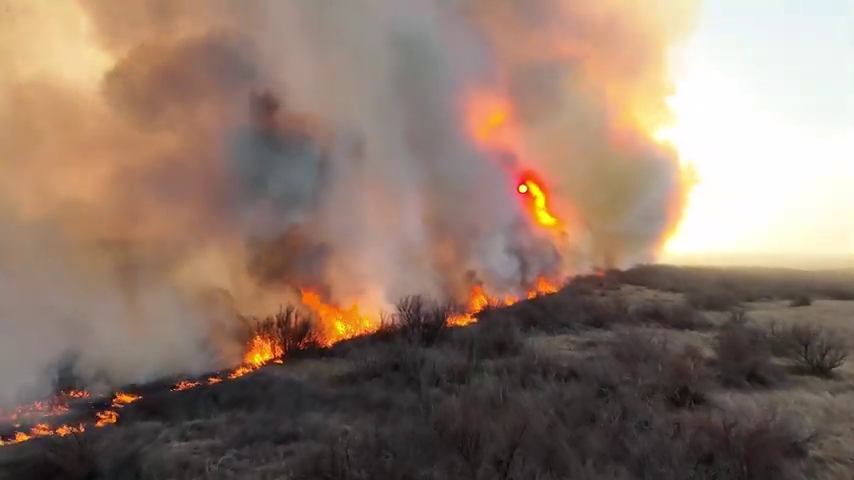forest_fire: (172, 334, 284, 390), (315, 303, 378, 345), (0, 423, 85, 445), (92, 392, 140, 427), (449, 287, 488, 325), (526, 278, 556, 298), (499, 296, 519, 304)
